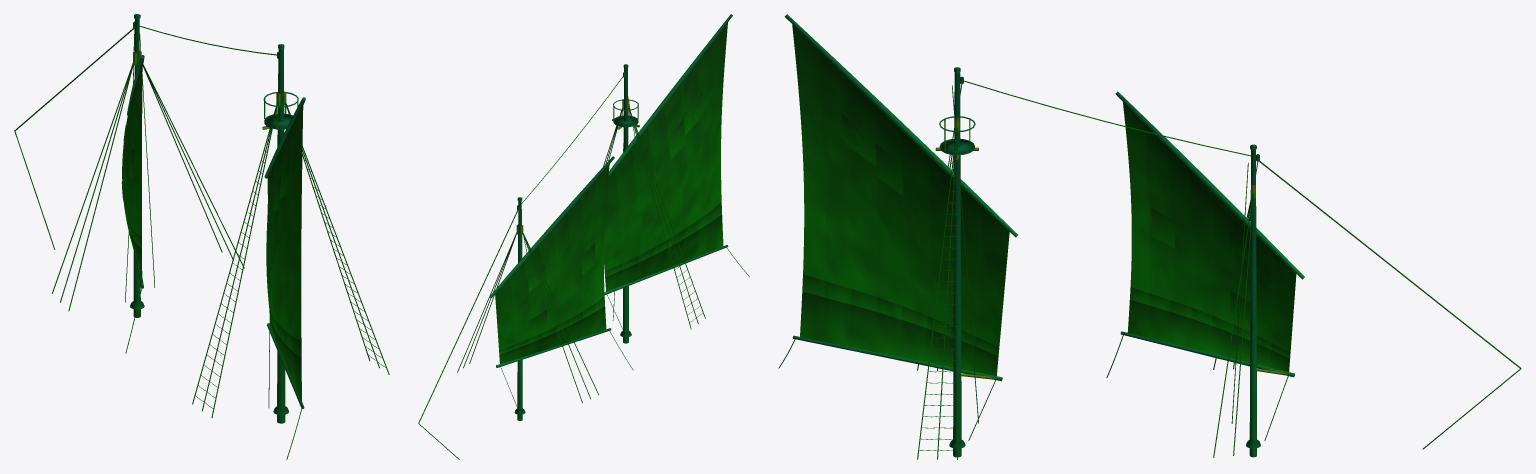
Rendered from ferry_rig.glb.
3 views of the same model, side by side, from view 1: azimuth 30°, elevation 25°; view 2: azimuth 150°, elevation 25°; view 3: azimuth 270°, elevation 25° (orthographic). The views are drawn at different scales.
Parts seen in each view (by area): view 1: ferry_rig; view 2: ferry_rig; view 3: ferry_rig.
Part boxes in pixels (box(x1,y1,x2,y2)): ferry_rig: box(14, 14, 389, 459); ferry_rig: box(418, 14, 749, 459); ferry_rig: box(778, 14, 1521, 459).
Size of what is drawn, in the model's own units: 7.44 by 15.94 by 26.1.
